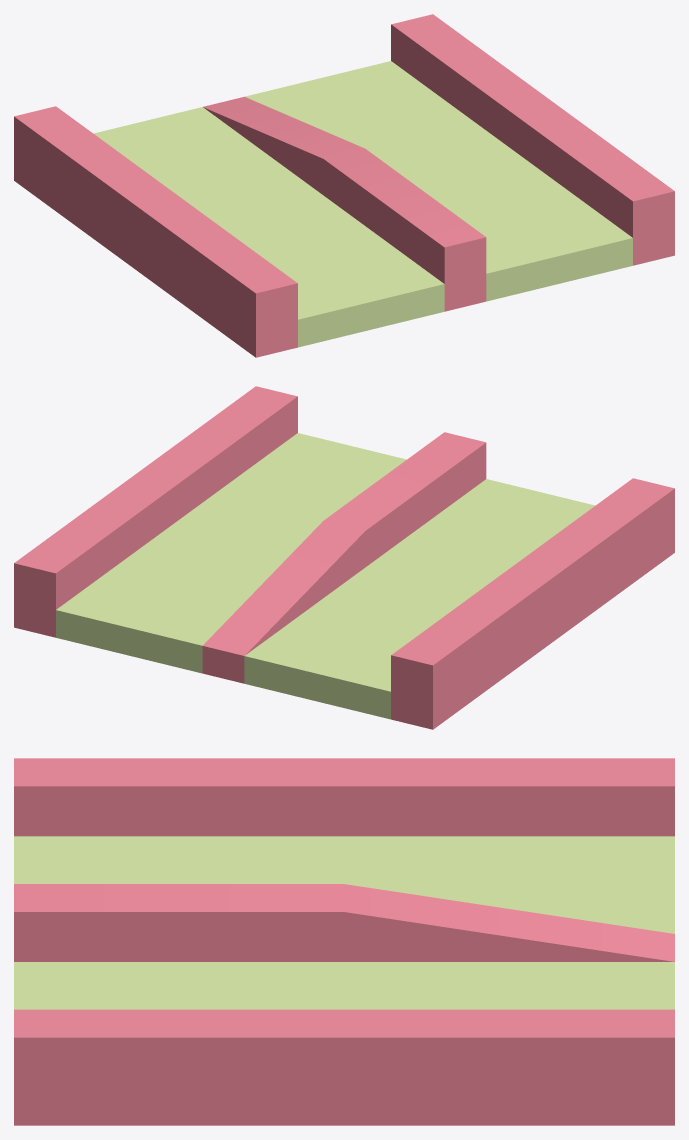
File: splitStart_001.fbx
The picture shows the model from 3 angles, top to bottom: view 1: azimuth 30°, elevation 25°; view 2: azimuth 150°, elevation 25°; view 3: azimuth 270°, elevation 25°; orthographic projection. The views are drawn at different scales.
Parts seen in each view (by area): view 1: splitStart.001; view 2: splitStart.001; view 3: splitStart.001.
Part boxes in pixels (bbox=[...]): splitStart.001: bbox=[14, 14, 674, 357]; splitStart.001: bbox=[14, 386, 674, 729]; splitStart.001: bbox=[14, 758, 674, 1125].
Bounding box in the file's own units: 99.99 × 14.67 × 99.99.
